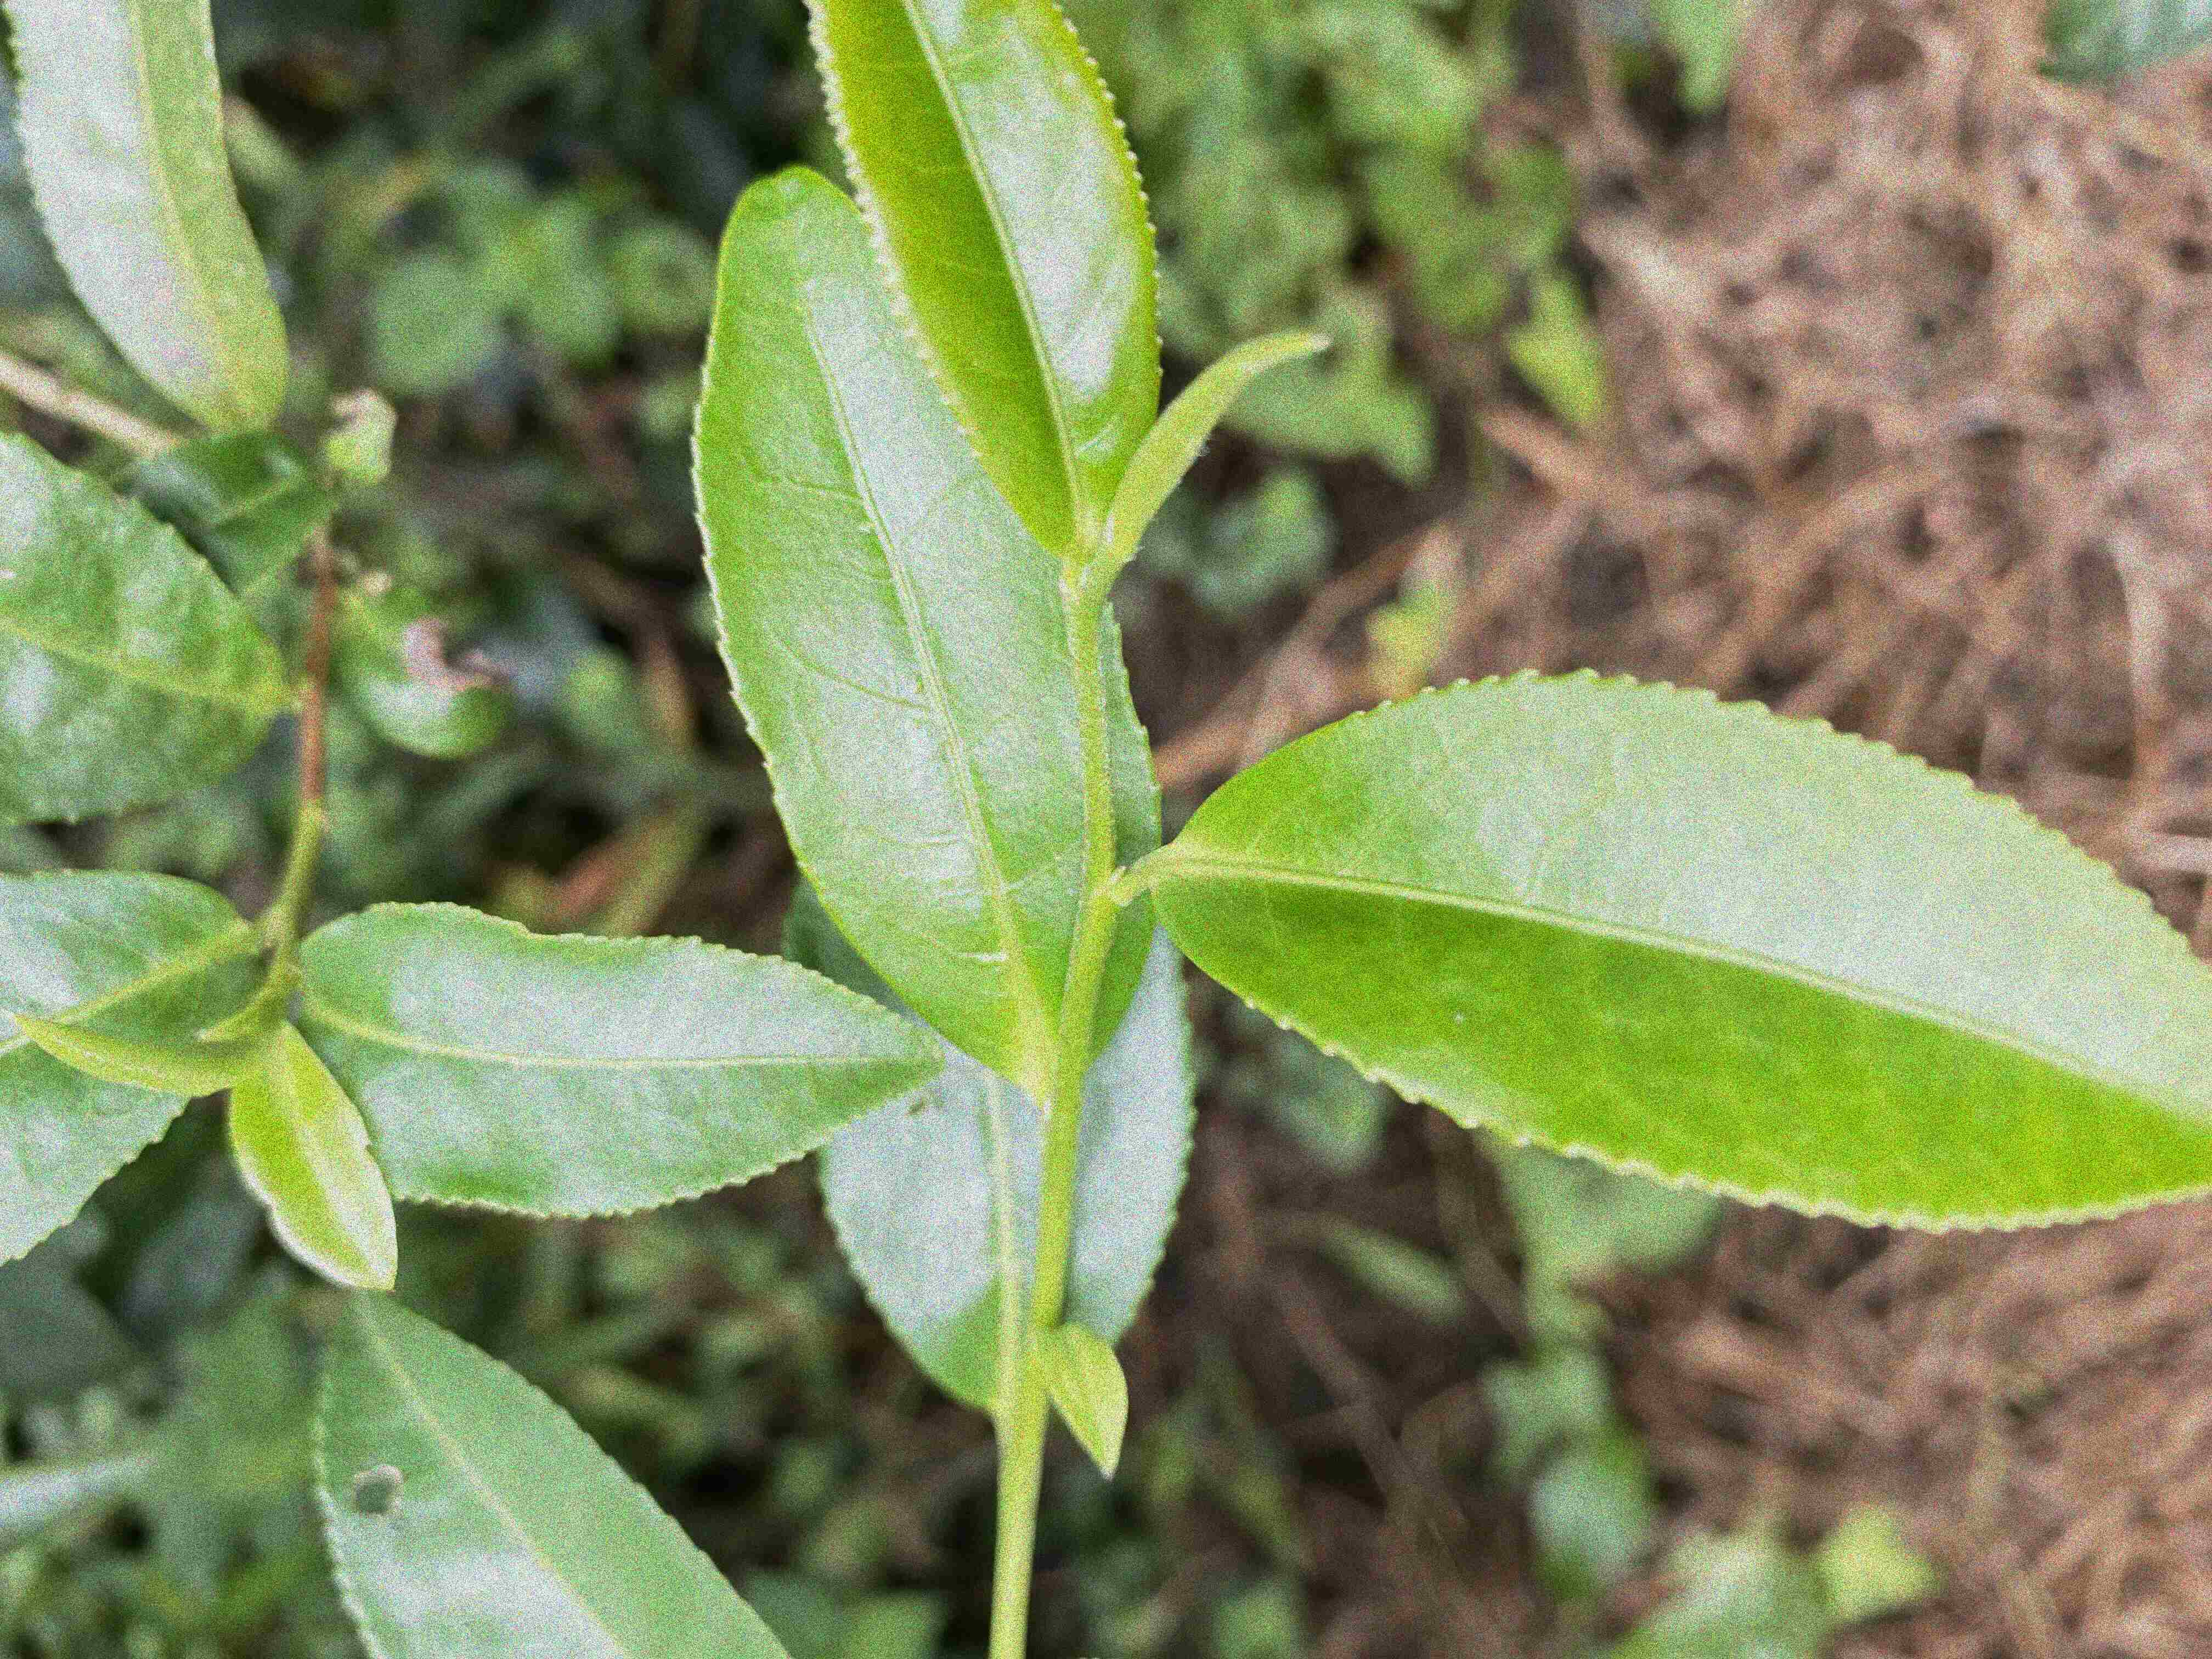chihuo_low: (310, 1290, 794, 1657)
healthy: (1153, 664, 2209, 1232), (686, 162, 1160, 1089), (300, 899, 942, 1222), (801, 2, 1165, 554), (228, 1021, 397, 1291)
